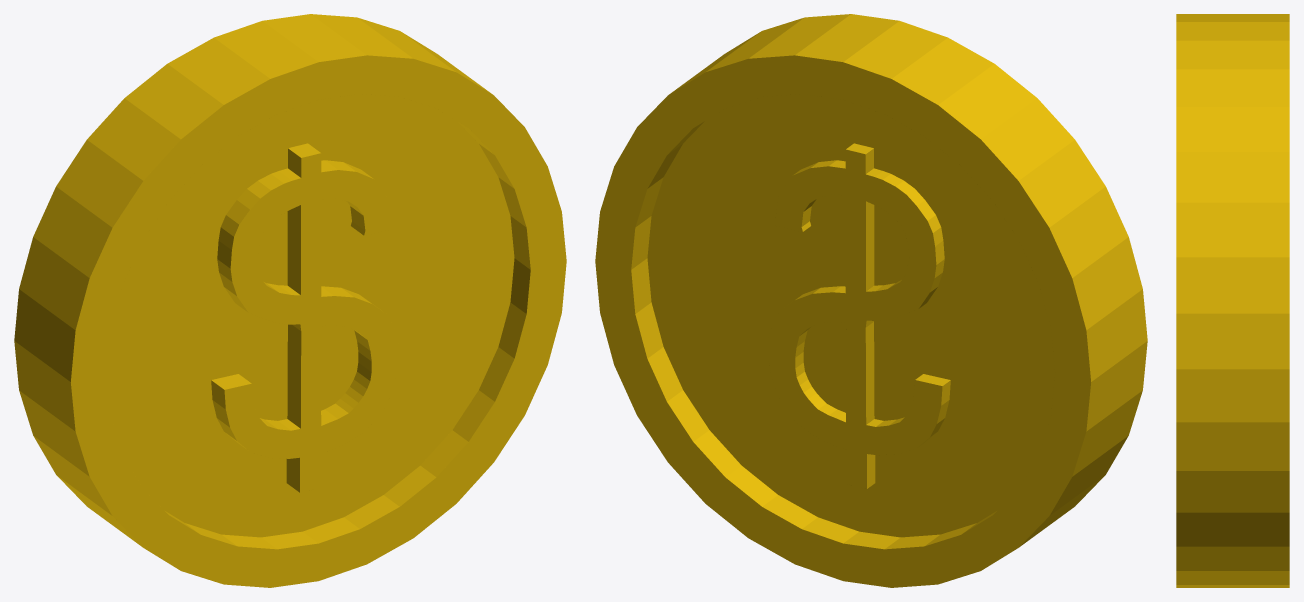
File: monetav1.fbx
3 views of the same model, side by side, from view 1: azimuth 30°, elevation 25°; view 2: azimuth 150°, elevation 25°; view 3: azimuth 270°, elevation 25° (orthographic).
Visible parts, largest first — view 1: Cylinder; view 2: Cylinder; view 3: Cylinder.
Boxes of the visible parts, x1,y1,x2,y2 form: Cylinder: (14,14,566,587); Cylinder: (595,14,1147,587); Cylinder: (1176,14,1289,587).
Bounding box in the file's own units: 200 × 200 × 39.5.
